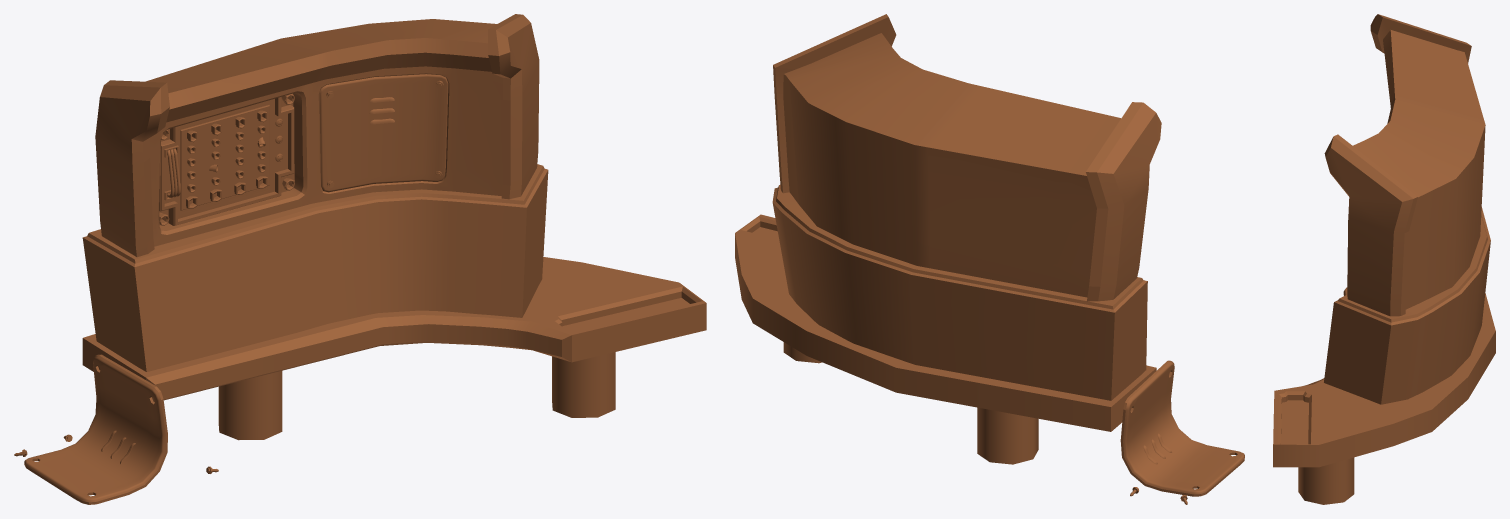
The model's file is LeftConsoles.fbx.
3 views of the same model, side by side, from view 1: azimuth 30°, elevation 25°; view 2: azimuth 150°, elevation 25°; view 3: azimuth 270°, elevation 25° (orthographic). The views are drawn at different scales.
Parts seen in each view (by area): view 1: LeftConsole_Geo; view 2: LeftConsole_Geo; view 3: LeftConsole_Geo.
Boxes of the visible parts, left/top/right/bottom form: LeftConsole_Geo: left=14, top=14, right=706, bottom=504; LeftConsole_Geo: left=735, top=14, right=1244, bottom=504; LeftConsole_Geo: left=1273, top=14, right=1495, bottom=504.
Size of the model in its own units: 243 by 156 by 97.35.
